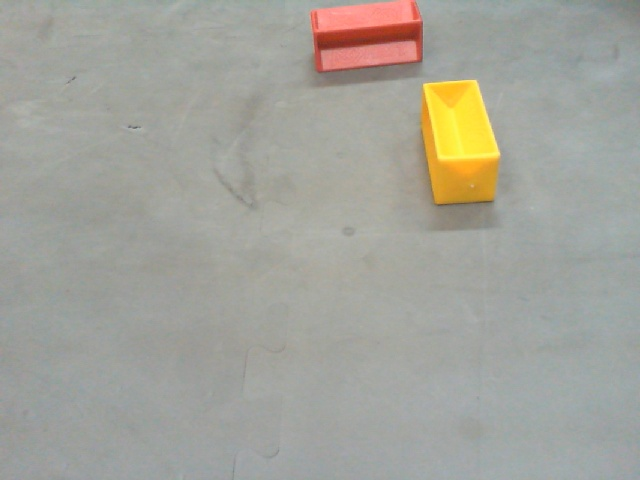RedSample: (309, 1, 424, 69)
YellowSample: (420, 77, 501, 206)
